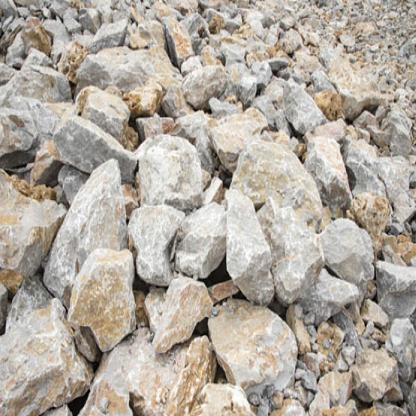Sedimentary_Limestone: (48, 151, 128, 305), (212, 300, 300, 398), (67, 245, 139, 357), (1, 152, 53, 289), (138, 128, 216, 216), (221, 188, 275, 303), (83, 46, 166, 114), (322, 212, 385, 284), (300, 131, 346, 212), (78, 87, 130, 143), (182, 60, 228, 111)
